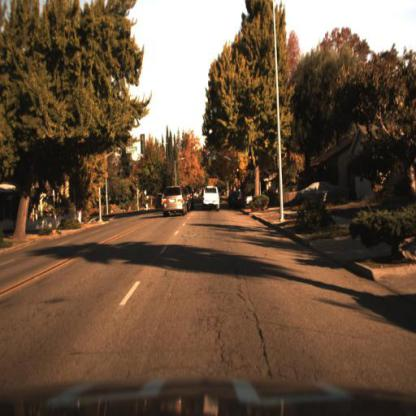car: (291, 176, 351, 210), (163, 185, 186, 219), (227, 189, 247, 213), (203, 185, 221, 211)
trafficLight-Red: (133, 173, 141, 191), (247, 150, 254, 168), (201, 146, 209, 161), (235, 164, 243, 179)
